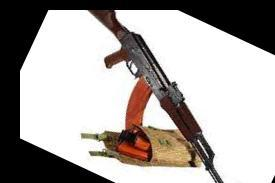larga: (87, 10, 224, 183)
